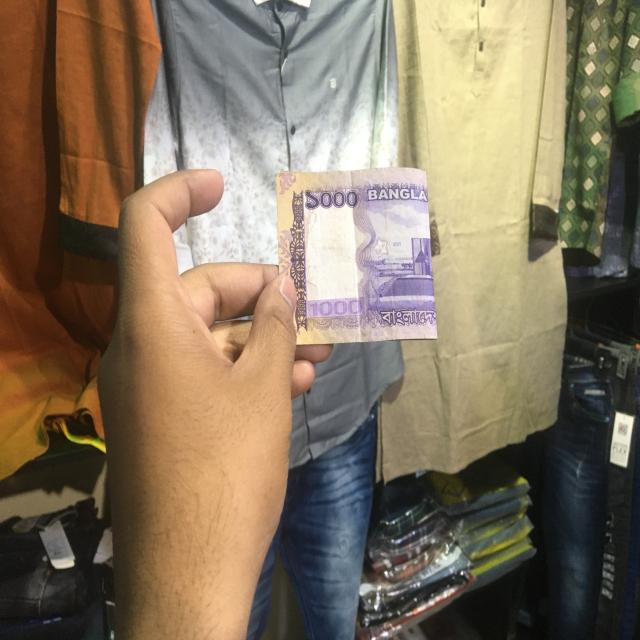Taka: (276, 168, 442, 344)
